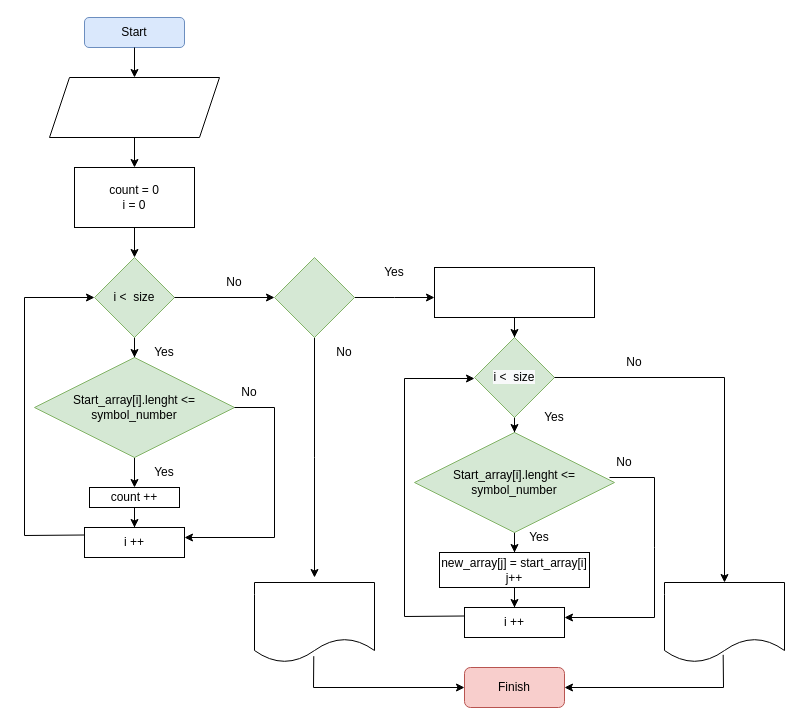
Some shapes in this 802 by 725 pixel diagram are drawn without their labels. The box of each missing label's shape, as (x1, y1, x2, y2) in pixels:
"Нет элементов удовлетворяющих условию": (254, 582, 374, 662)
count > 0: (274, 256, 354, 338)
new_array: (664, 582, 784, 662)
new_array[count] j = 0 i = 0: (434, 266, 594, 318)
size Start_array[size] symbol_number = 3: (48, 76, 220, 138)
